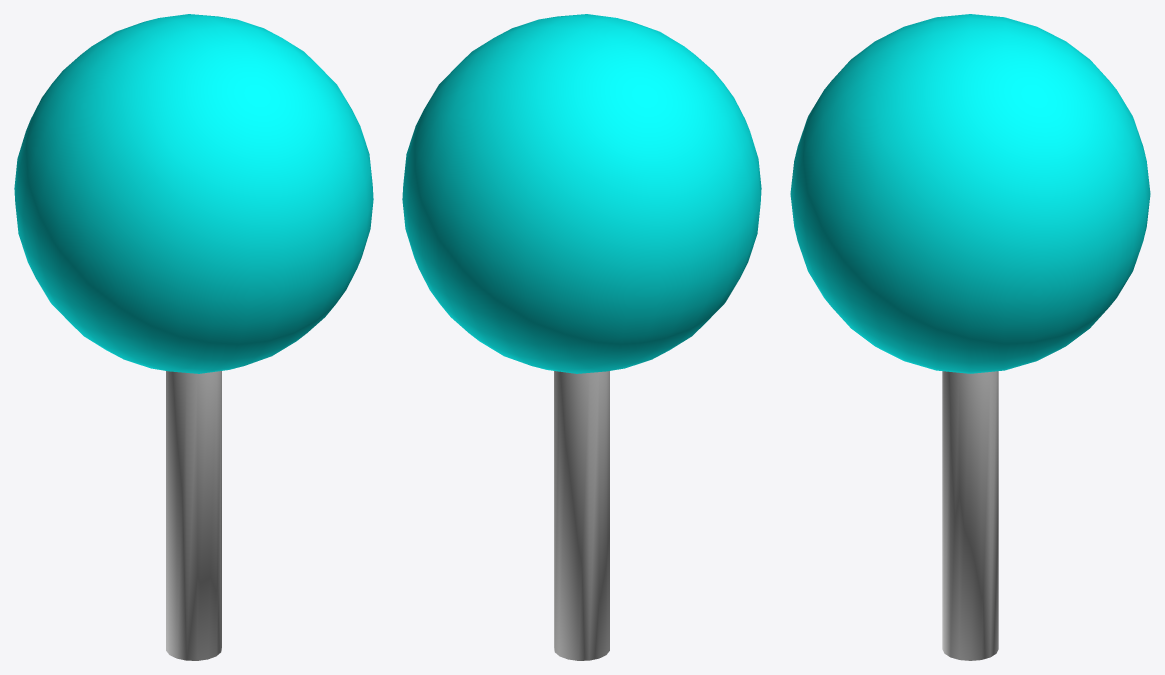
The model's file is cyan.glb.
The picture shows the model from 3 angles, left to right: view 1: azimuth 30°, elevation 25°; view 2: azimuth 150°, elevation 25°; view 3: azimuth 270°, elevation 25°; orthographic projection.
Parts seen in each view (by area): view 1: Cyan; view 2: Cyan; view 3: Cyan.
Boxes of the visible parts, x1=… form: Cyan: x1=14, y1=14, x2=373, y2=660; Cyan: x1=402, y1=14, x2=761, y2=660; Cyan: x1=790, y1=14, x2=1150, y2=660.
Bounding box in the file's own units: 0.3764 × 0.7133 × 0.3764.
